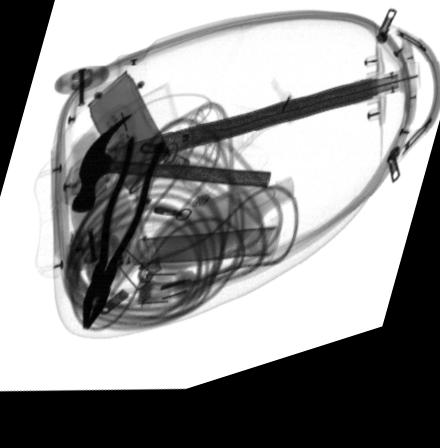Hammer: (70, 122, 270, 216)
Pliers: (80, 142, 167, 332)
